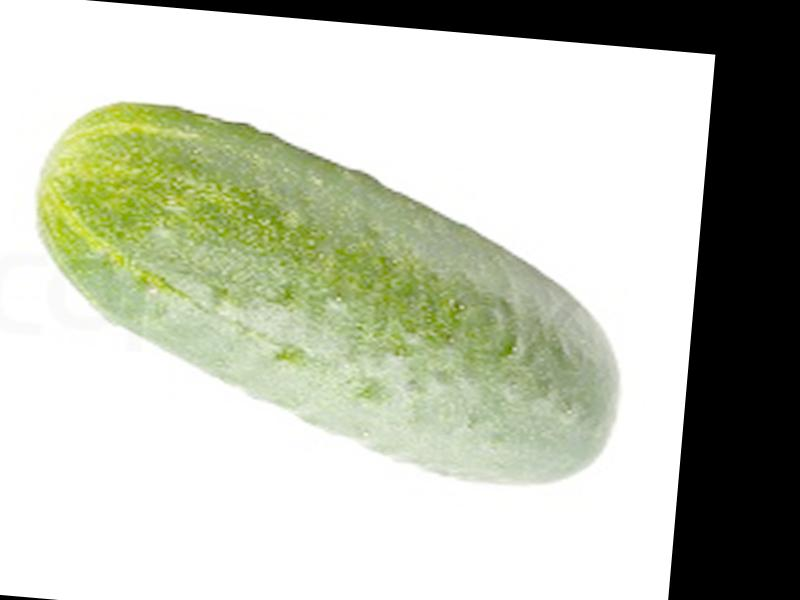Cucumber: (13, 99, 640, 496)
